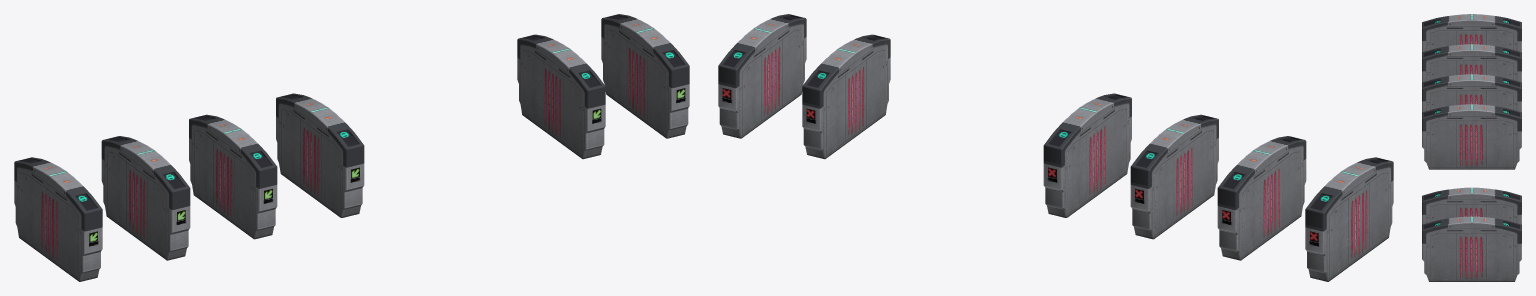
File: Tourniquet01_Group.FBX
3 views of the same model, side by side, from view 1: azimuth 30°, elevation 25°; view 2: azimuth 150°, elevation 25°; view 3: azimuth 270°, elevation 25° (orthographic). The views are drawn at different scales.
Visible parts, largest first — view 1: Tourniquet01_Group; view 2: Tourniquet01_Group; view 3: Tourniquet01_Group.
Boxes of the visible parts, x1,y1,x2,y2 form: Tourniquet01_Group: [14, 14, 689, 281]; Tourniquet01_Group: [718, 14, 1393, 281]; Tourniquet01_Group: [1422, 14, 1521, 281].
Size of the model in its own units: 9597 by 1272 by 1940.
